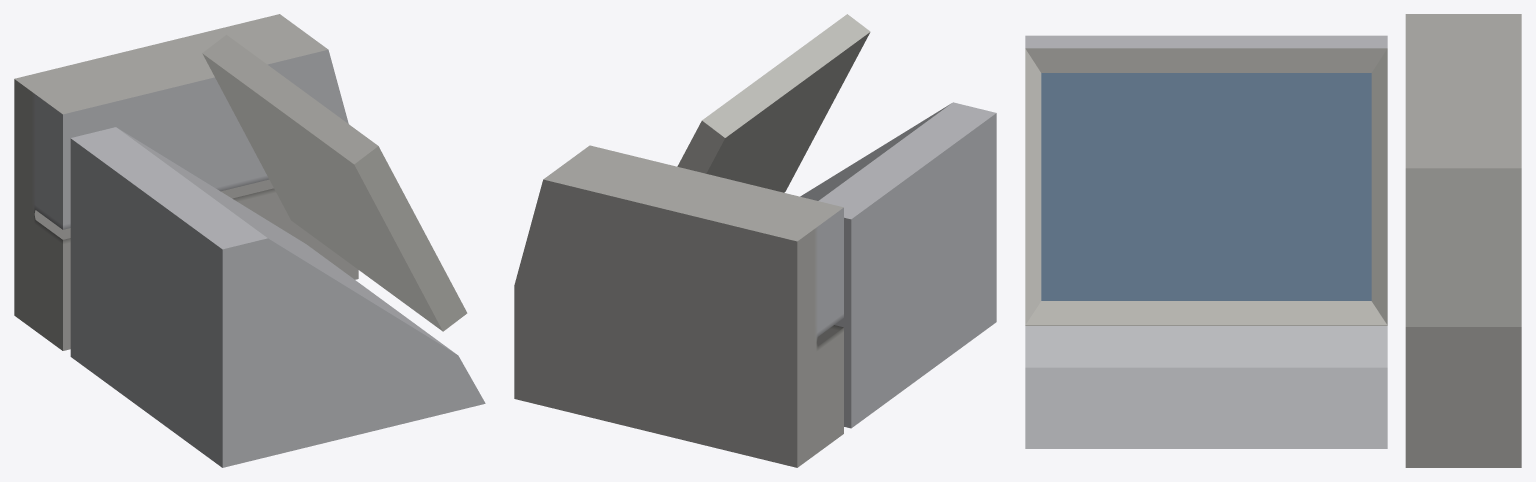
The model's file is mars.obj.
3 renders of one model, left to right at view 1: azimuth 30°, elevation 25°; view 2: azimuth 150°, elevation 25°; view 3: azimuth 270°, elevation 25°, orthographic. The views are drawn at different scales.
Visible parts, largest first — view 1: Cube.001; view 2: Cube.001; view 3: Cube.001.
Boxes of the visible parts, <box> form: Cube.001: <box>14,14,485,467</box>; Cube.001: <box>514,14,996,467</box>; Cube.001: <box>1025,14,1521,467</box>.
Bounding box in the file's own units: 0.8133 × 0.7458 × 0.9919.
